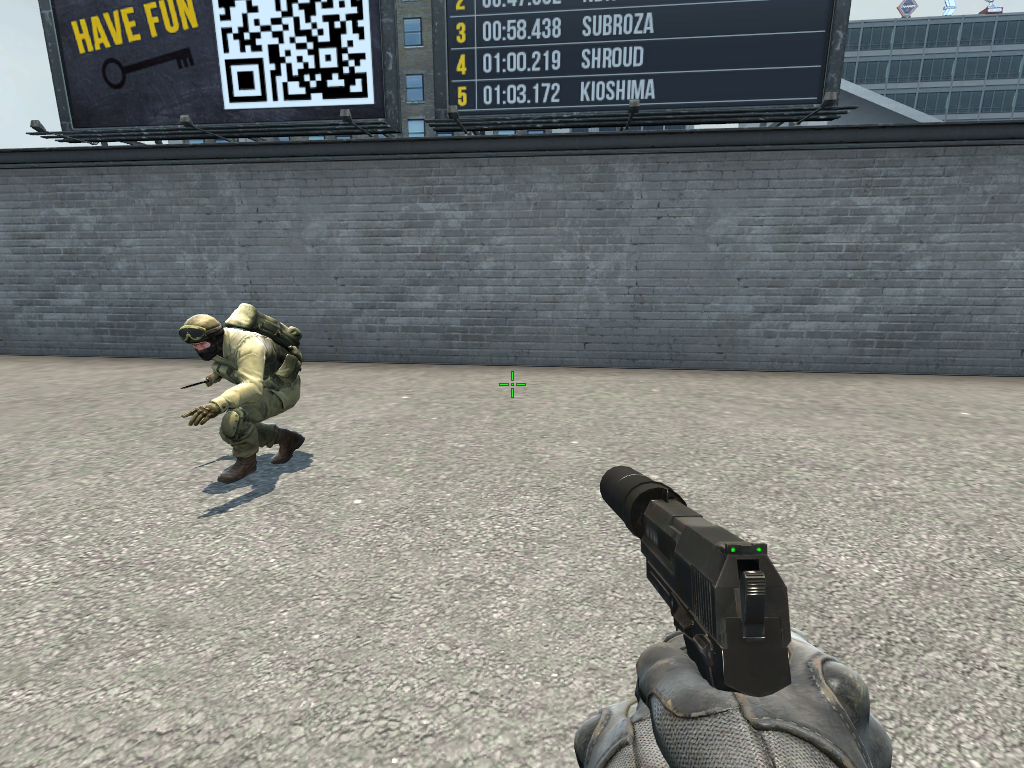ct head: (175, 311, 231, 367)
